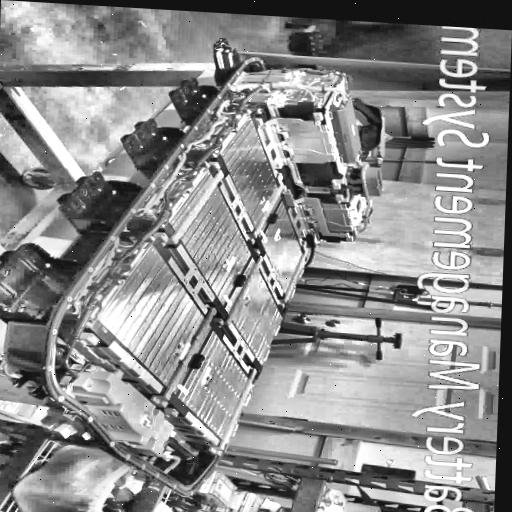bms_unit: (324, 92, 365, 165)
connector: (339, 163, 389, 205)
